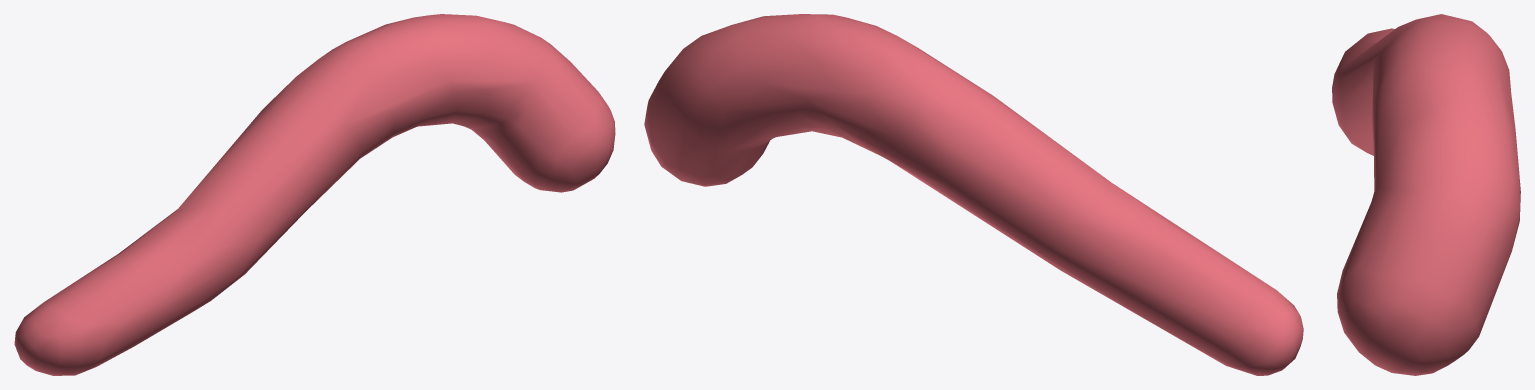
File: fma66650_fj5189.glb
3 views of the same model, side by side, from view 1: azimuth 30°, elevation 25°; view 2: azimuth 150°, elevation 25°; view 3: azimuth 270°, elevation 25° (orthographic). The views are drawn at different scales.
Parts seen in each view (by area): view 1: FMA66650_FJ5189; view 2: FMA66650_FJ5189; view 3: FMA66650_FJ5189.
Part boxes in pixels (x1,y1,x2,y2): FMA66650_FJ5189: (14,14,615,375); FMA66650_FJ5189: (644,14,1303,375); FMA66650_FJ5189: (1332,14,1520,375).
Bounding box in the file's own units: 0.0544 × 0.0216 × 0.0116.
